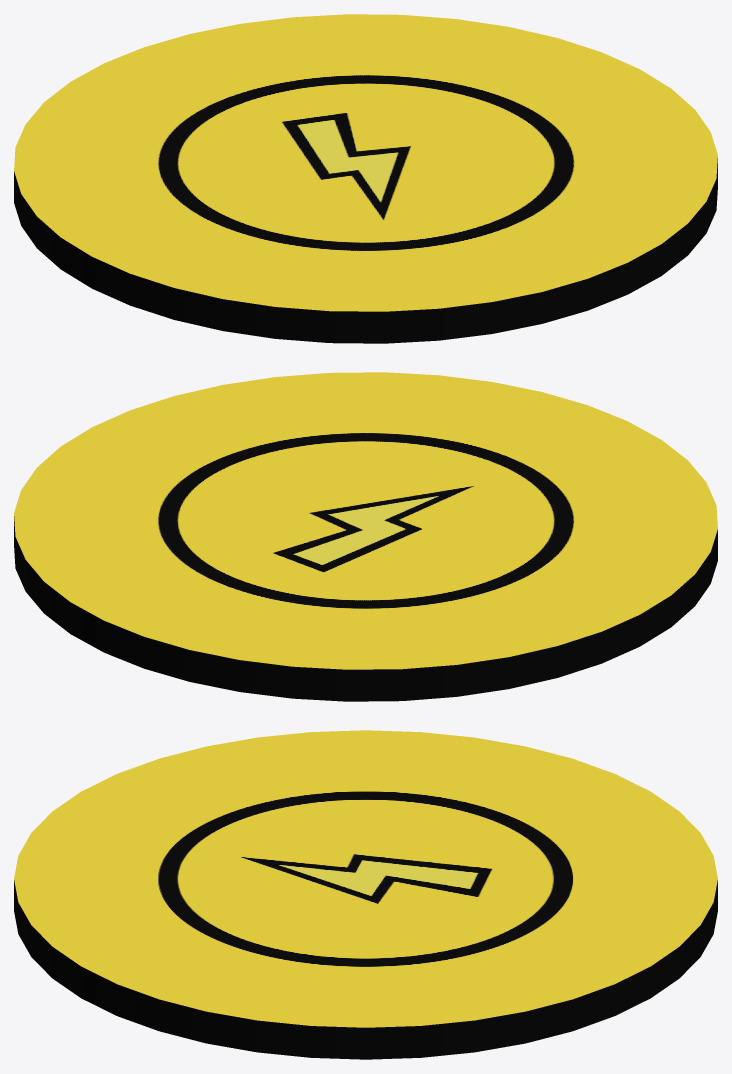
The model's file is ChargePad.fbx.
The picture shows the model from 3 angles, top to bottom: view 1: azimuth 30°, elevation 25°; view 2: azimuth 150°, elevation 25°; view 3: azimuth 270°, elevation 25°; orthographic projection.
Visible parts, largest first — view 1: pCylinder1; view 2: pCylinder1; view 3: pCylinder1.
Part boxes in pixels (x1,y1,x2,y2): pCylinder1: (14,14,717,343); pCylinder1: (14,372,717,701); pCylinder1: (14,730,717,1059).
Bounding box in the file's own units: 20 × 1 × 20.
Materials: 1 (1 with a texture image).
